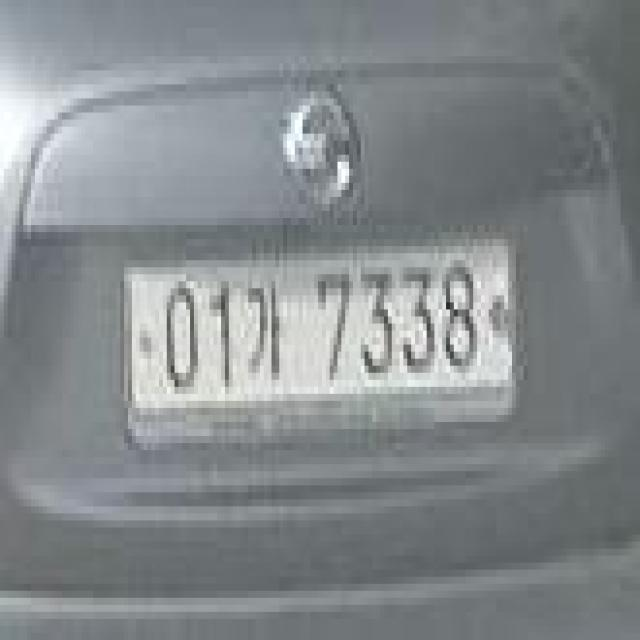illegal_plate: (116, 226, 527, 446)
